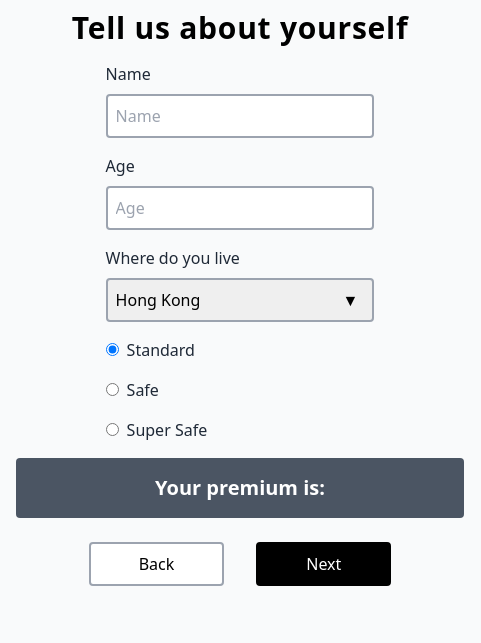
Test case: SecondPage › will show name error message submitting empty form
The width and height of the screenshot is (481, 643).
Step 1. Click the button with test id "next" → coordinates (324, 564), box [256,542,391,586]
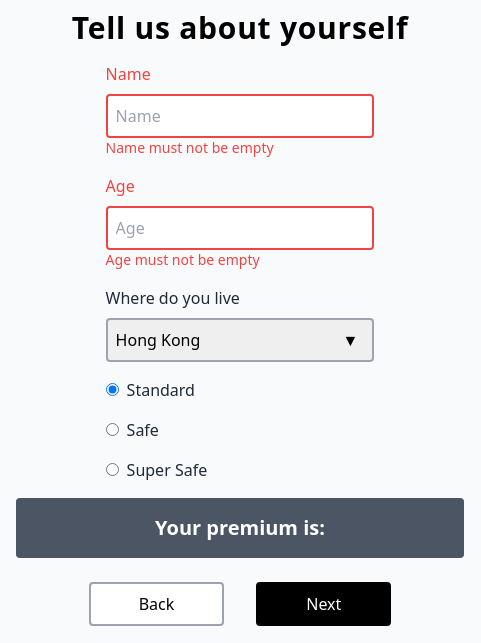
Expected: the element with test id "name" shows "Name must not be empty", [106,138,274,157]
